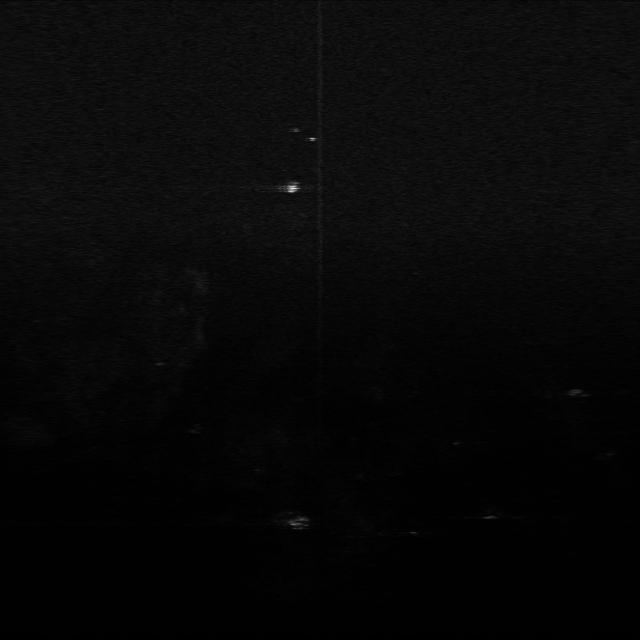rov: (278, 177, 308, 197)
